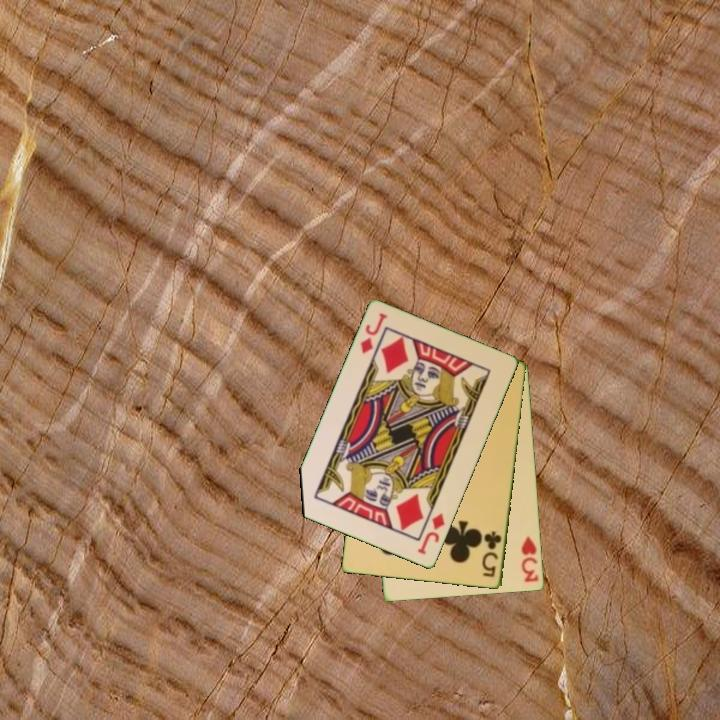3h: (518, 533, 541, 586)
5c: (479, 528, 505, 580)
Jd: (414, 510, 448, 558), (357, 309, 390, 357)
